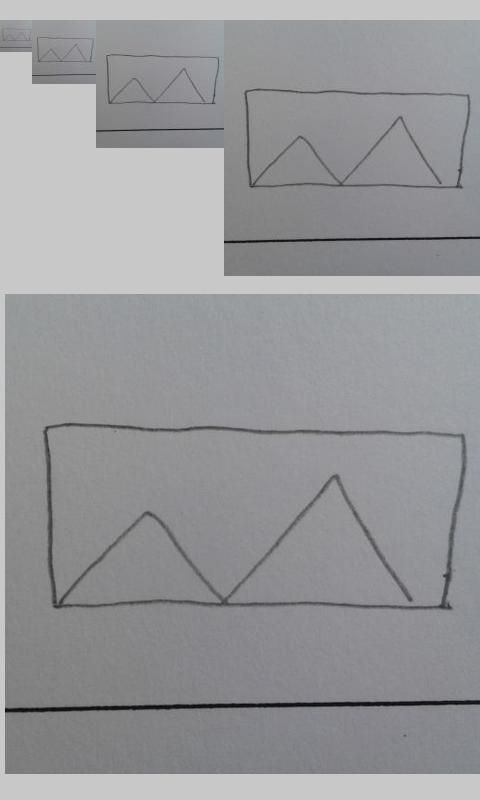image_view: (42, 419, 470, 616), (242, 83, 473, 196), (106, 53, 220, 107), (36, 36, 94, 63), (1, 27, 32, 43)
